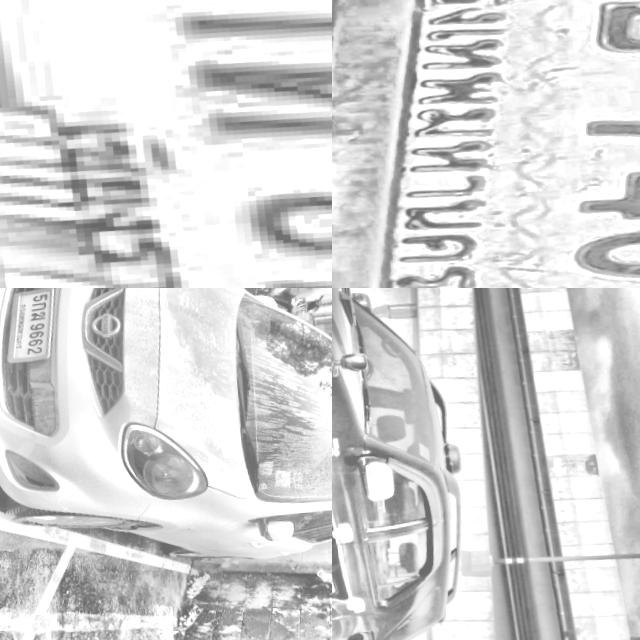license-plate: (0, 0, 332, 288), (332, 0, 640, 288), (0, 288, 62, 362)
